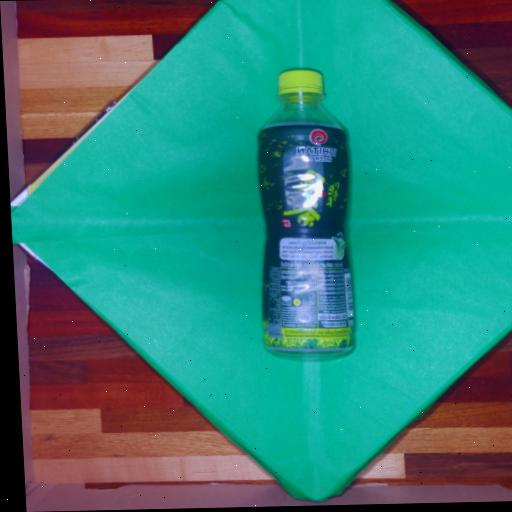bottle: (229, 50, 390, 373)
